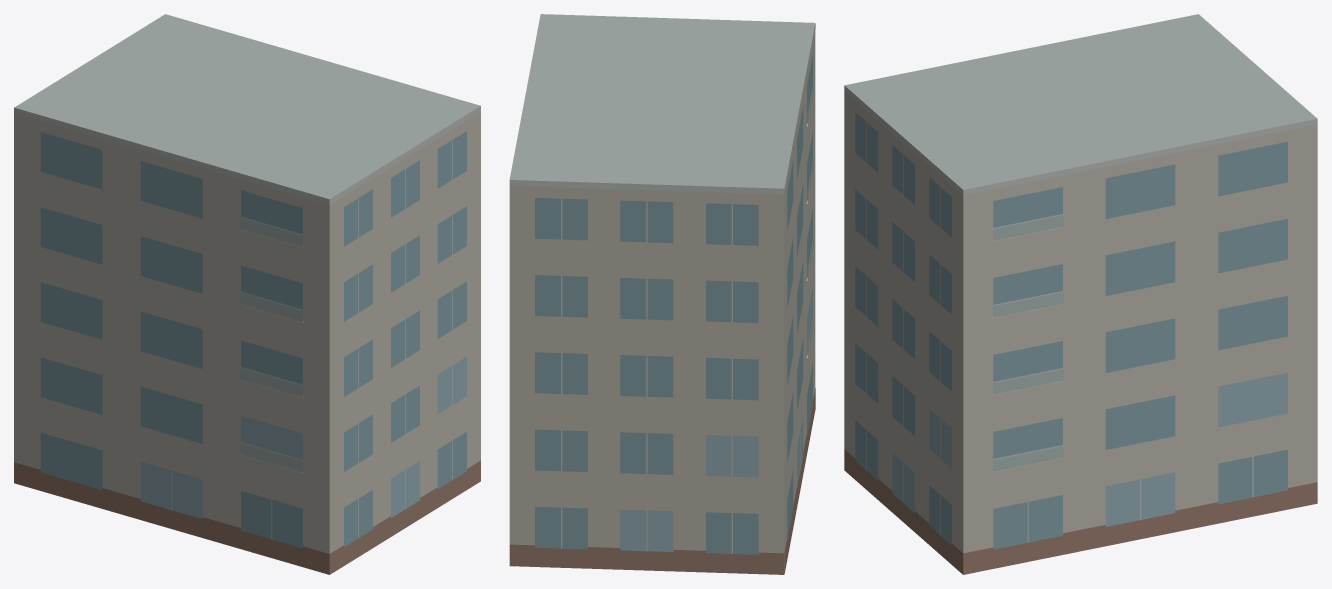
The model's file is survey-upis-32885822.glb.
The picture shows the model from 3 angles, left to right: view 1: azimuth 30°, elevation 25°; view 2: azimuth 150°, elevation 25°; view 3: azimuth 270°, elevation 25°; orthographic projection. The views are drawn at different scales.
Visible parts, largest first — view 1: survey-upis-32885822.tmp; view 2: survey-upis-32885822.tmp; view 3: survey-upis-32885822.tmp.
Boxes of the visible parts, box(x1,y1,x2,y2) form: survey-upis-32885822.tmp: box(14, 14, 480, 574); survey-upis-32885822.tmp: box(509, 14, 815, 574); survey-upis-32885822.tmp: box(844, 14, 1317, 574).
Size of the model in its own units: 15.65 by 15.95 by 17.78.
